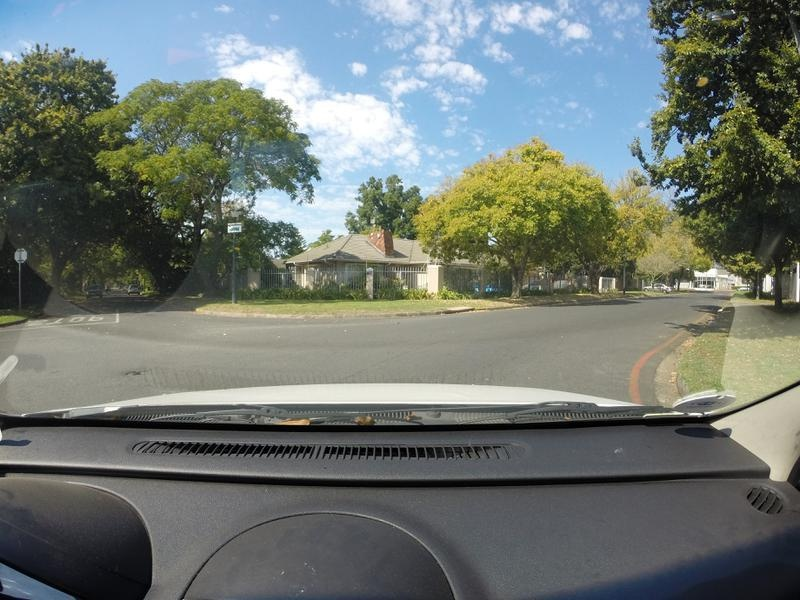pothole: (126, 369, 141, 376)
